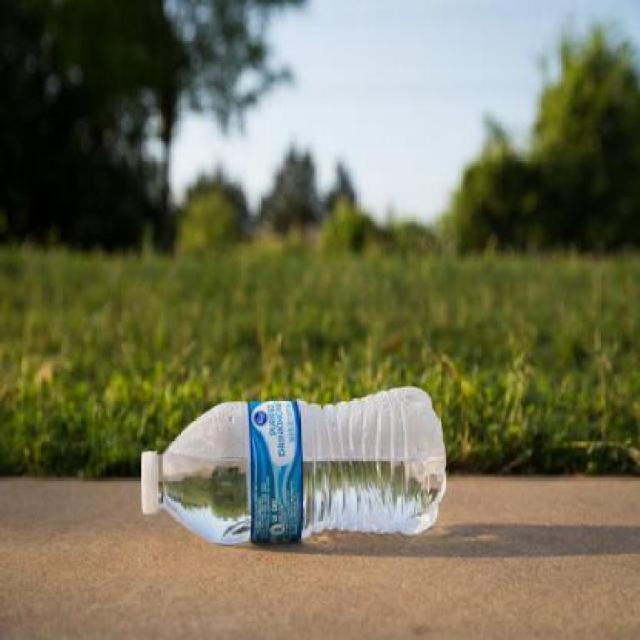bottle: (128, 385, 450, 559)
